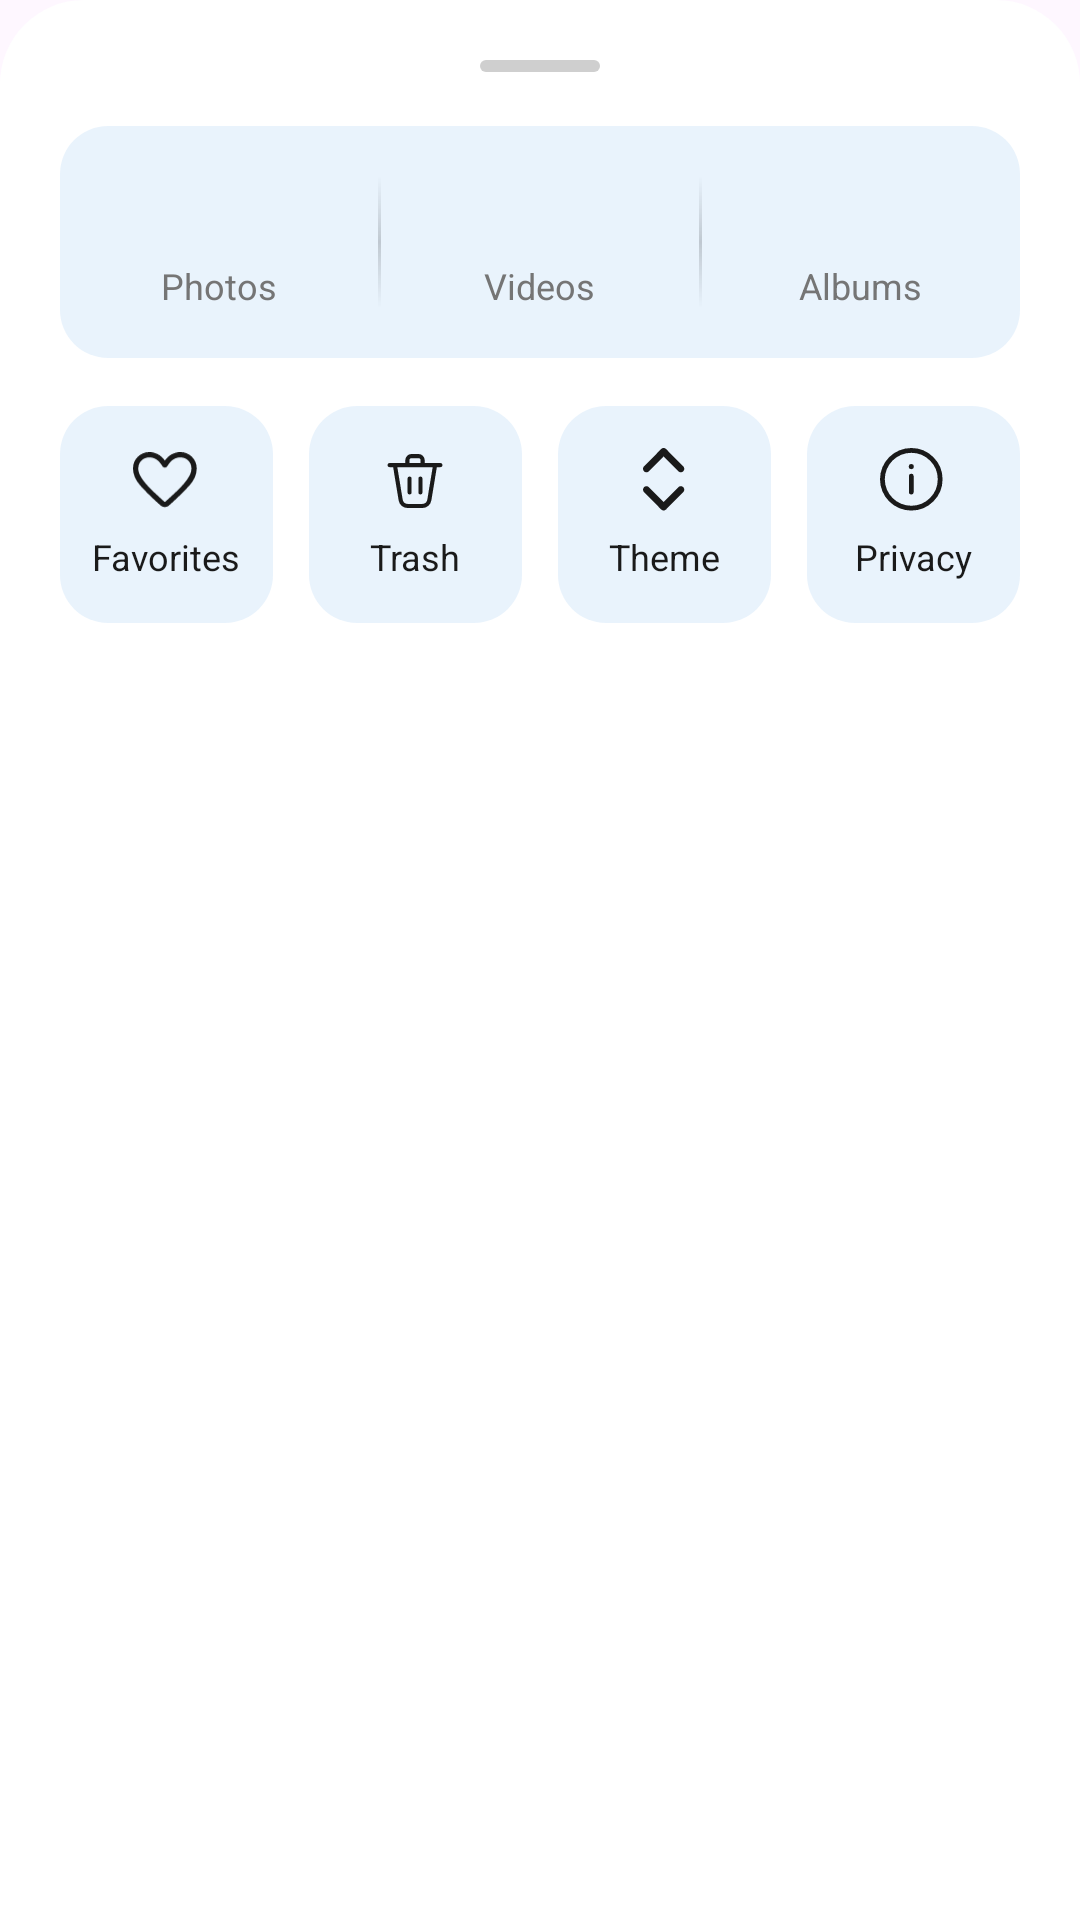

Icons on this 1080×1920 Android screen, each with the point to tap as (x,y):
delete: (415,481)
details: (911,479)
heart: (165,480)
sort: (664,479)
